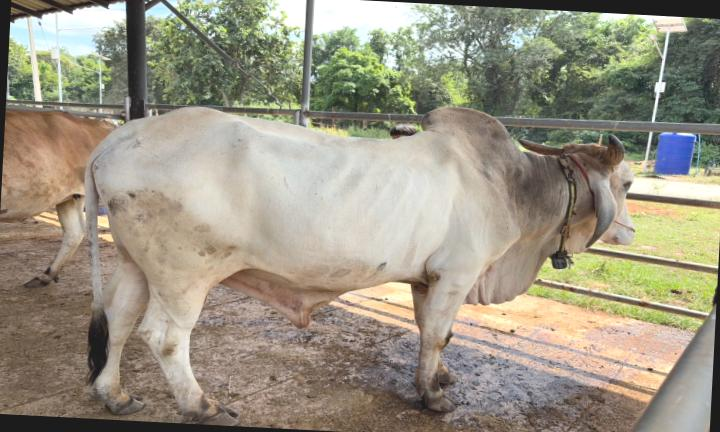Brahman: (79, 107, 631, 426)
